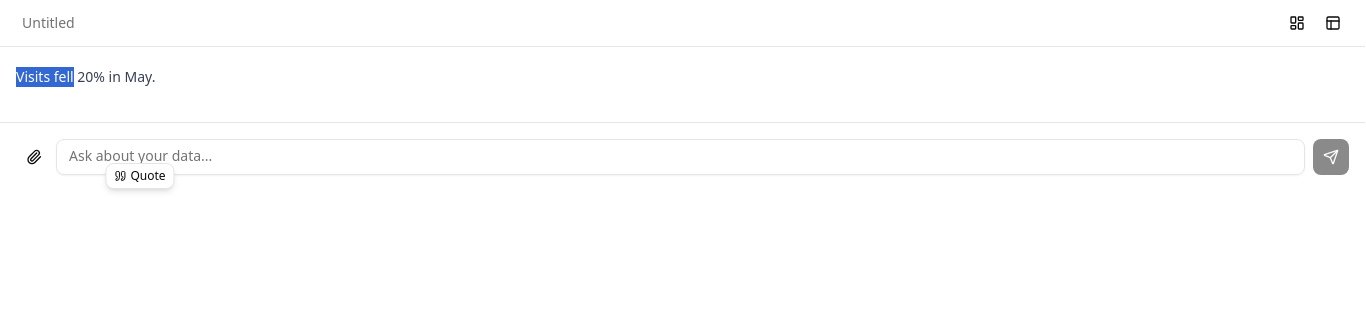
it: ChatPanel quote-reply (#920) › quotes selected reply text into the composer and sends it with the reply
The width and height of the screenshot is (1366, 324).
Step 1. Click the button with test id "chat-quote-action" → (140, 176), box [105, 163, 175, 189]
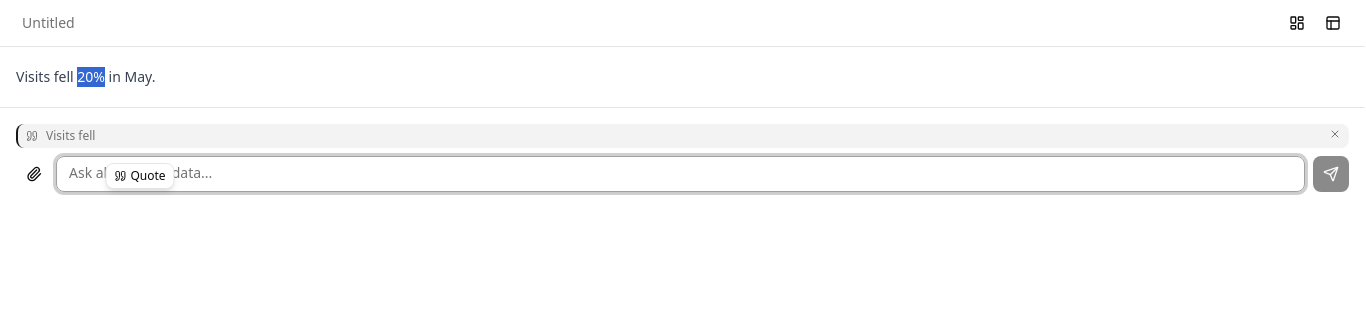
Step 2. Click the button with test id "chat-quote-action" → (140, 176), box [105, 163, 175, 189]
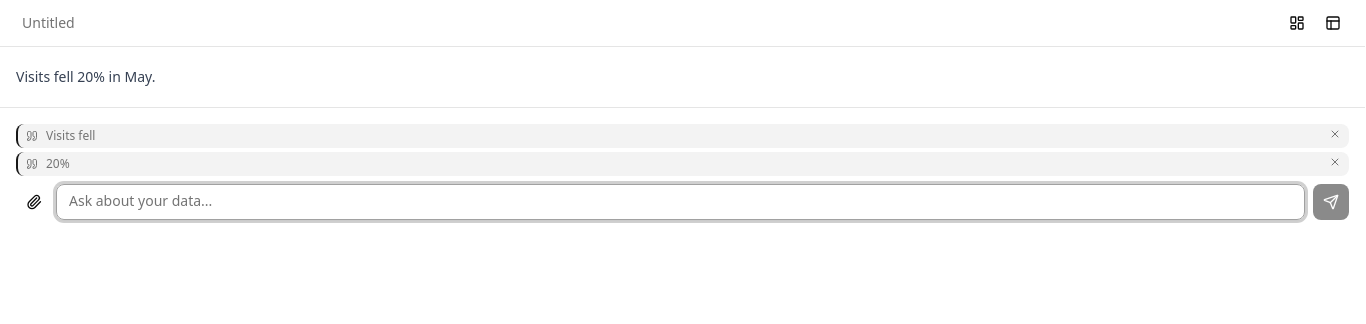
Now the elements with test id "composer-quote-chip" read "Visits fell", "20%", in this order, box [16, 124, 1349, 148]; [16, 152, 1349, 176]
Step 3. Type "Why?" into the text box with test id "chat-input" → (680, 202), box [56, 184, 1305, 220]
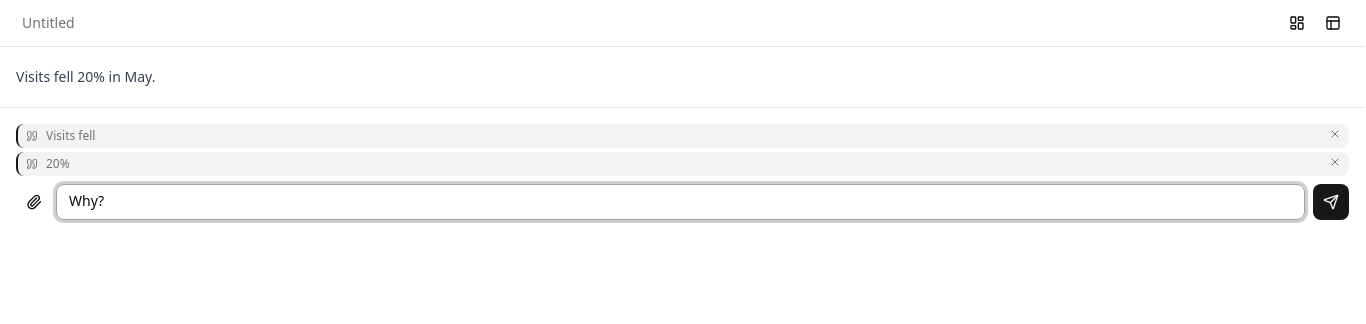
Step 4. Click the button with test id "chat-send" → (1331, 202), box [1313, 184, 1349, 220]
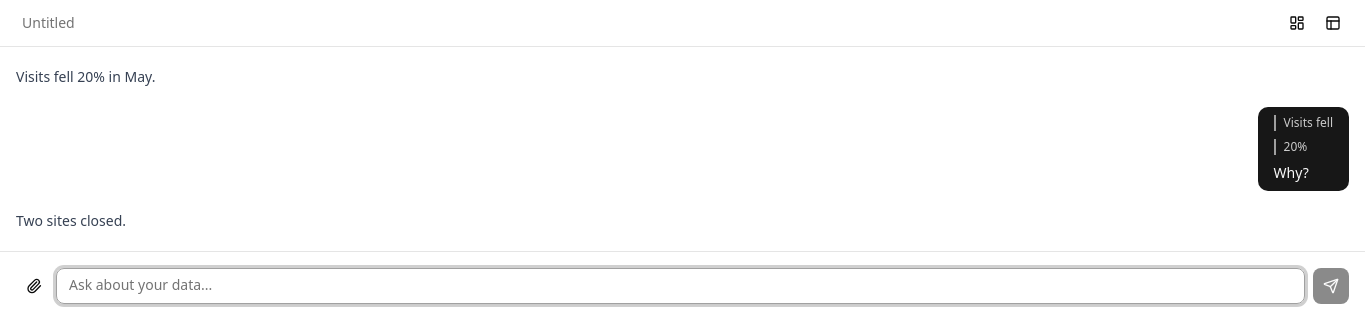
Now the text "Two sites closed." is shown, box [16, 211, 126, 231]
Now the list item with test id "composer-quote-chip" is gone
Now the elements with test id "chat-message-quote" read "Visits fell", "20%", in this order, box [1274, 115, 1333, 131]; [1274, 139, 1333, 155]
